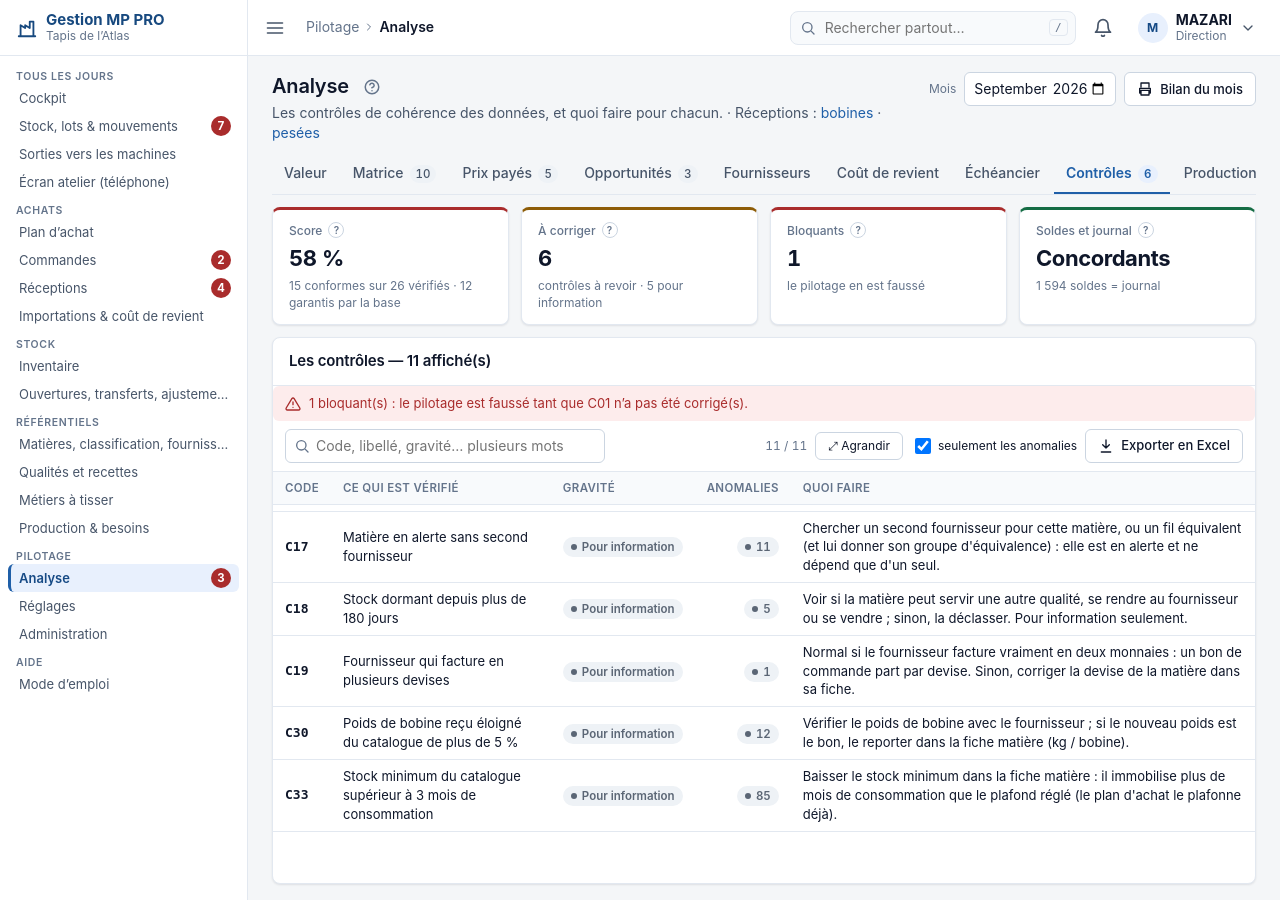
Test: Analyse › un contrôle non conforme s’ouvre à son adresse ; l’écart (fraction) se lit en %
This screenshot has width=1280, height=900.
(page scrolled)
Click the text "C30".
click(297, 733)  # box [285,725,308,740]
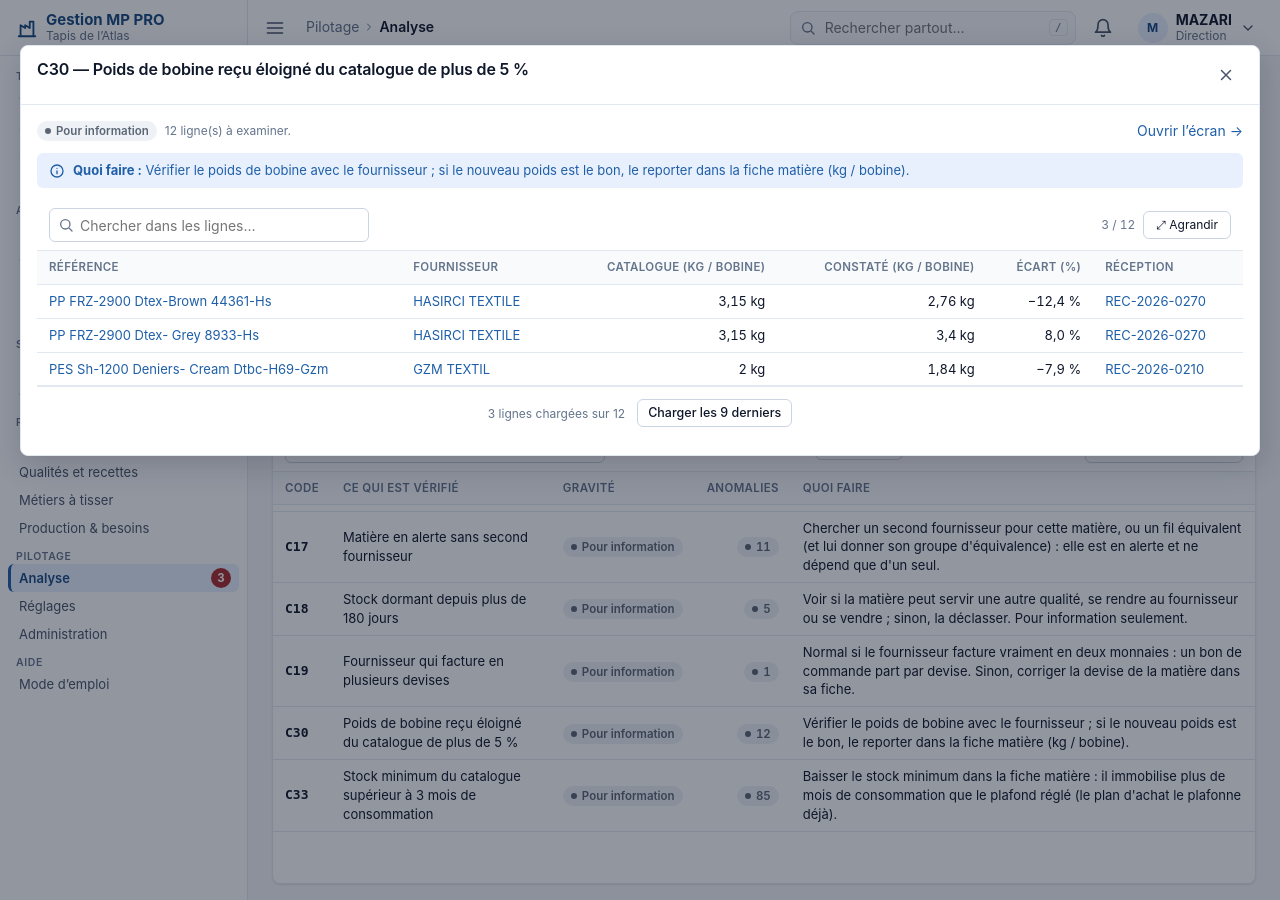
Check: the dialog shows "−12,4 %", box [1028,293,1081,309]
